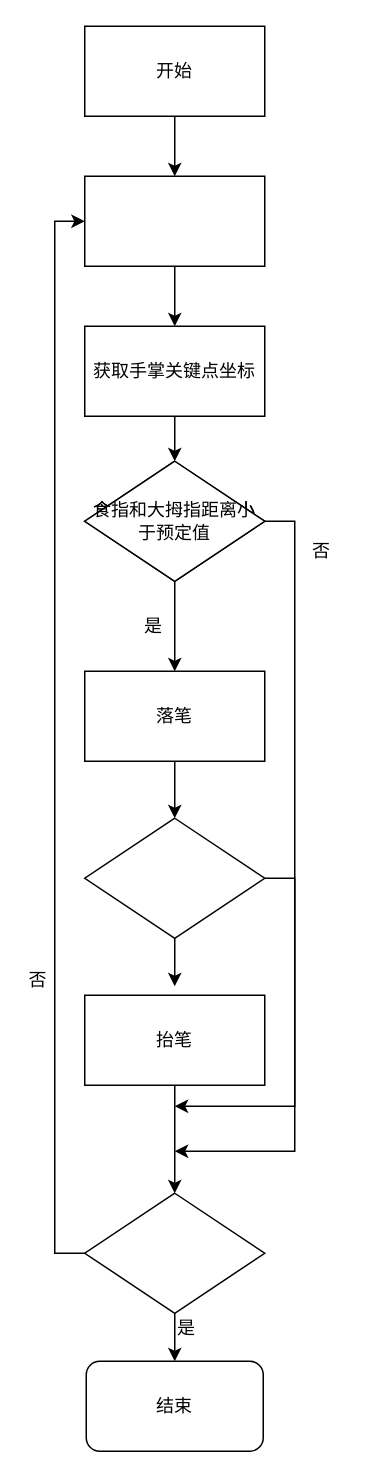
Image size: 380x1478. Some labels were removed from this diagram. The shapes that lost their labels are listed below. From the top down, each one's centre as x and y in pixels, then its label:
At [174,220]: "输入图片".
At [174,877]: "食指和中指距离小于预定值".
At [174,1252]: "键盘输入esc".
